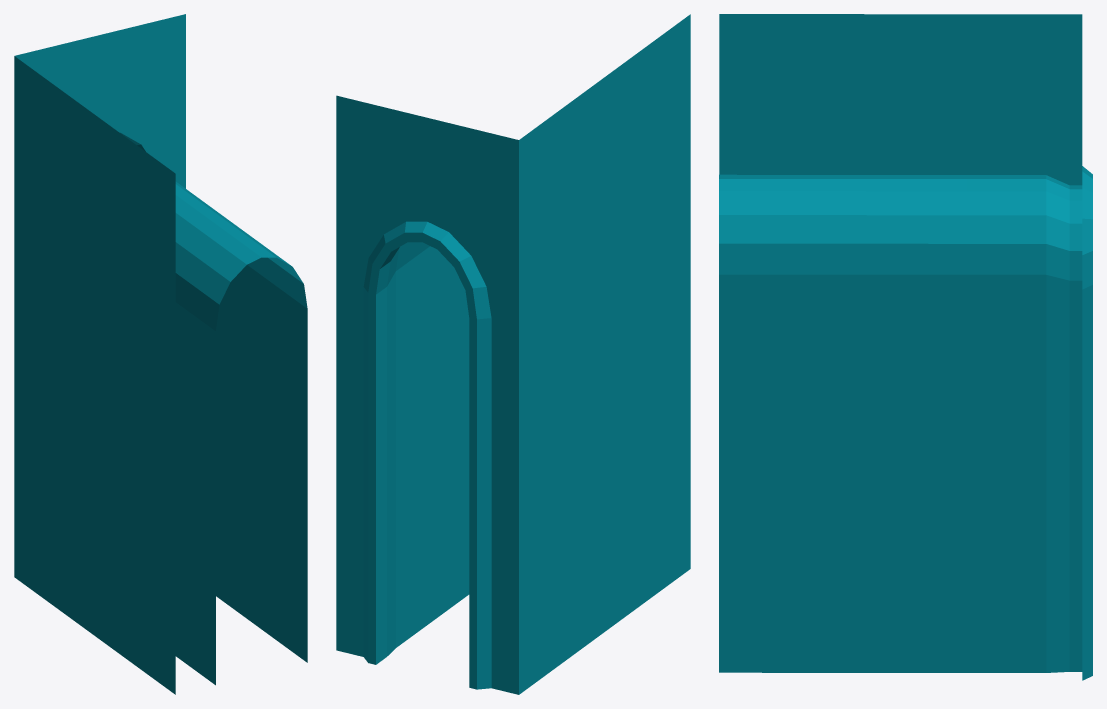
The model's file is Arch_modul_end_cap.fbx.
The picture shows the model from 3 angles, left to right: view 1: azimuth 30°, elevation 25°; view 2: azimuth 150°, elevation 25°; view 3: azimuth 270°, elevation 25°; orthographic projection. The views are drawn at different scales.
Visible parts, largest first — view 1: Arch_Modul1; view 2: Arch_Modul1; view 3: Arch_Modul1.
Boxes of the visible parts, left/top/right/bottom form: Arch_Modul1: left=14, top=14, right=307, bottom=694; Arch_Modul1: left=336, top=14, right=690, bottom=694; Arch_Modul1: left=719, top=14, right=1092, bottom=680.
Size of the model in its own units: 0.6623 by 1.92 by 1.11.
